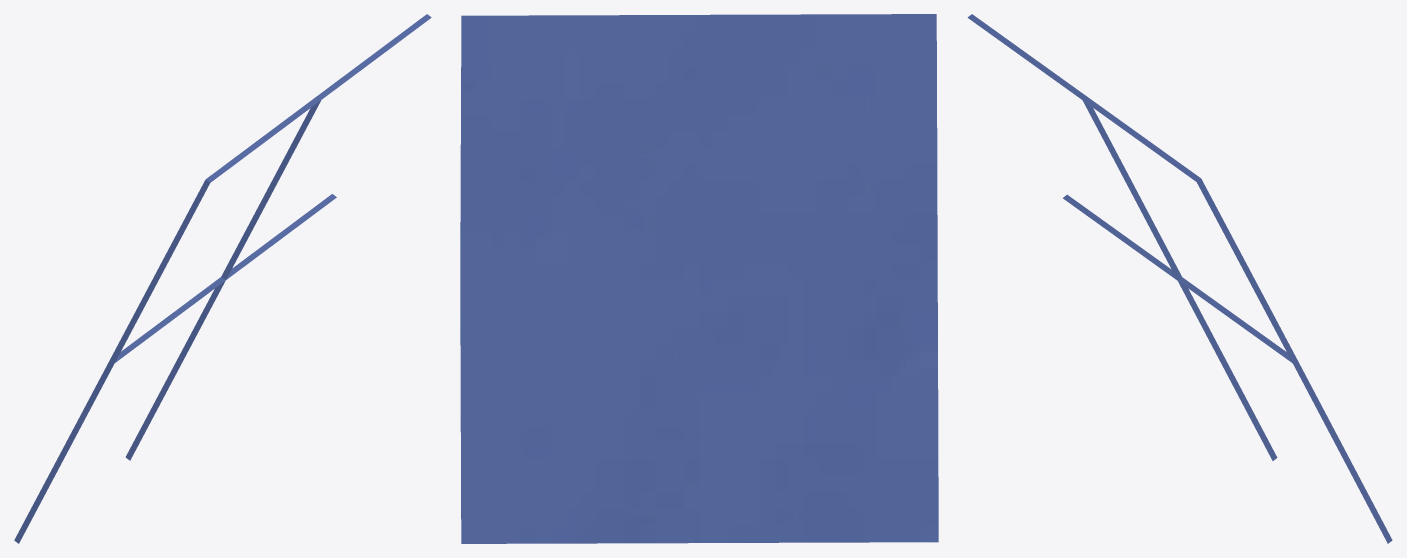
3 renders of one model, left to right at view 1: azimuth 30°, elevation 25°; view 2: azimuth 150°, elevation 25°; view 3: azimuth 270°, elevation 25°, orthographic. The views are drawn at different scales.
Bounding box in the file's own units: 19689 × 17712 × 16612.
Materials: 1 (1 with a texture image).
